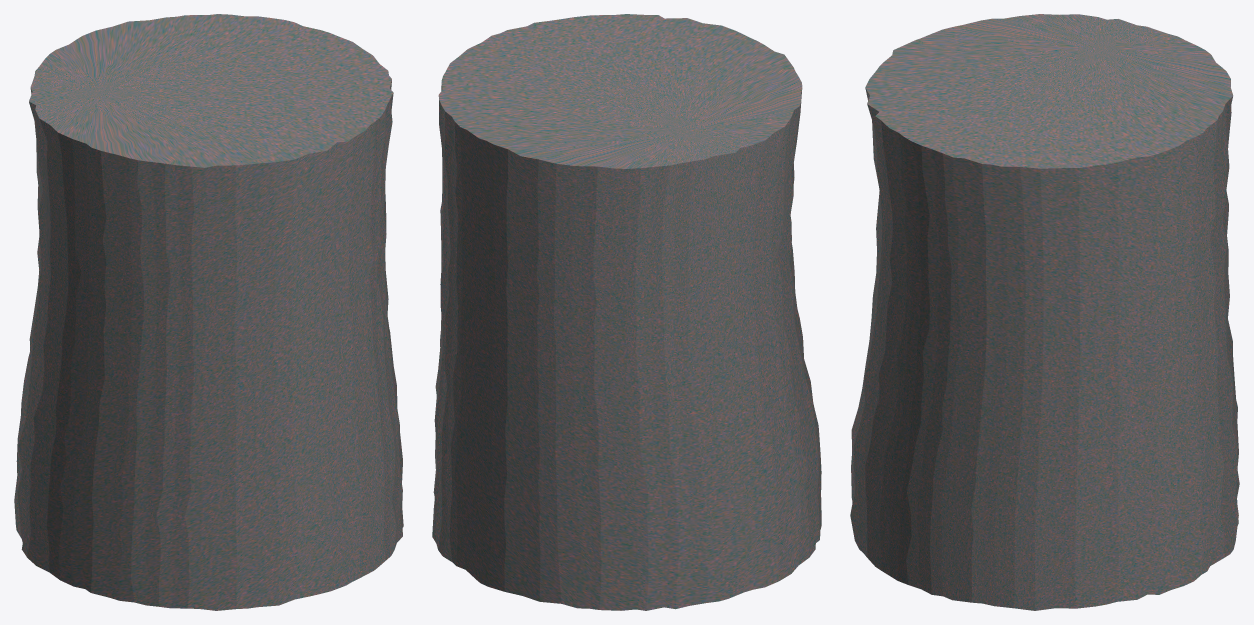
Rendered from barrel_1.dae.
3 renders of one model, left to right at view 1: azimuth 30°, elevation 25°; view 2: azimuth 150°, elevation 25°; view 3: azimuth 270°, elevation 25°, orthographic.
Parts seen in each view (by area): view 1: Cylinder; view 2: Cylinder; view 3: Cylinder.
Part boxes in pixels (x1,y1,x2,y2): Cylinder: [14, 14, 403, 610]; Cylinder: [432, 14, 821, 610]; Cylinder: [850, 14, 1239, 610].
Size of the model in its own units: 0.8124 by 0.8059 by 1.
1 material, 1 textured.
